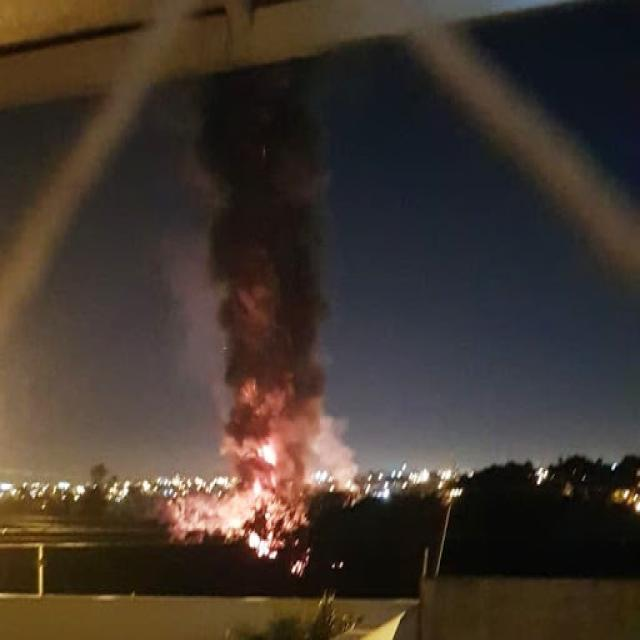Fire: (160, 476, 282, 559)
Smoke: (160, 80, 365, 526)
